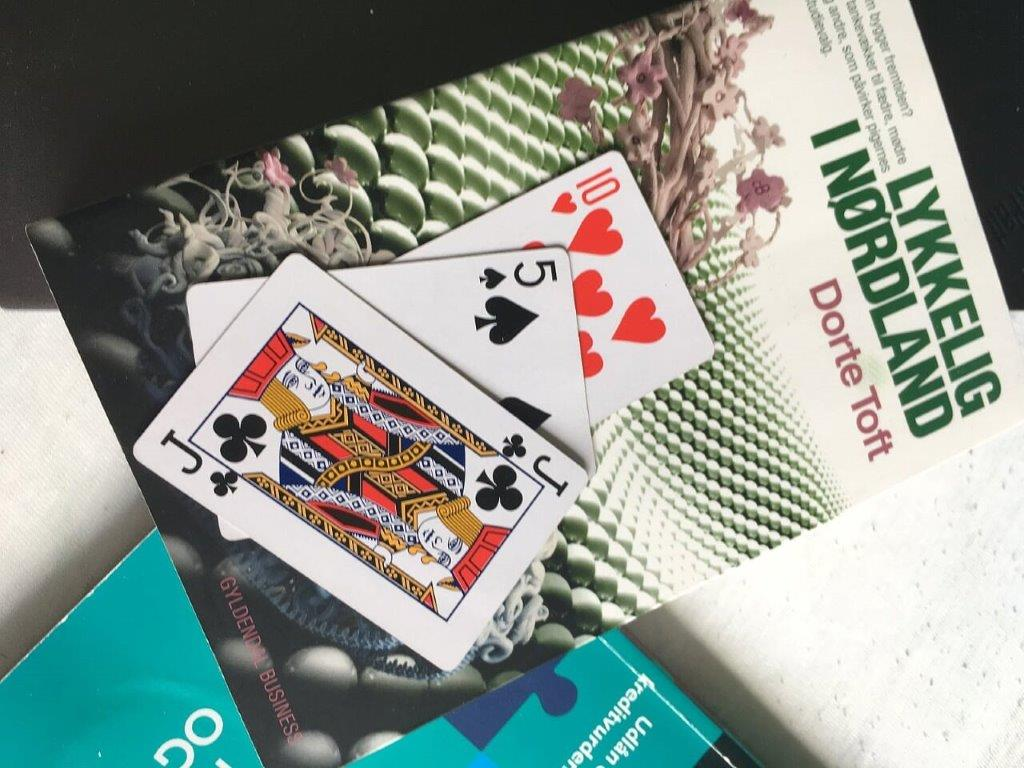10H: (569, 147, 715, 420)
5S: (465, 246, 592, 377)
JC: (130, 251, 590, 676)
